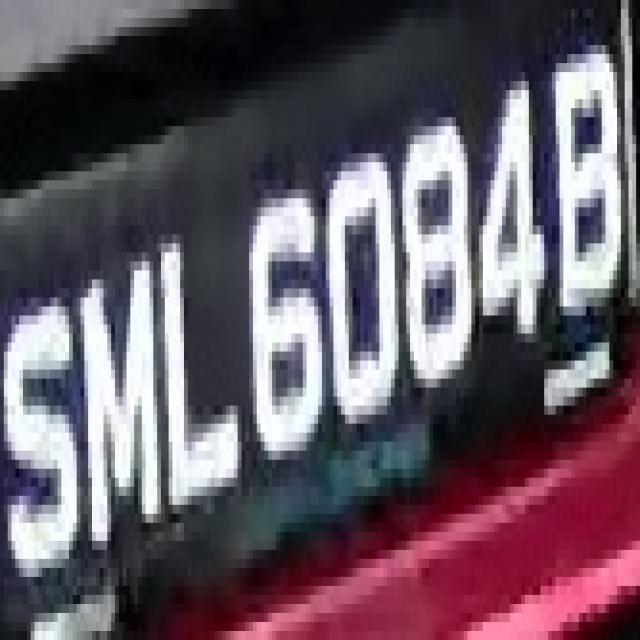0: (322, 171, 395, 433)
4: (475, 54, 552, 343)
6: (242, 180, 334, 478)
8: (394, 108, 486, 424)
B: (552, 45, 628, 352)
L: (153, 207, 238, 550)
M: (84, 243, 165, 532)
S: (11, 252, 80, 613)
